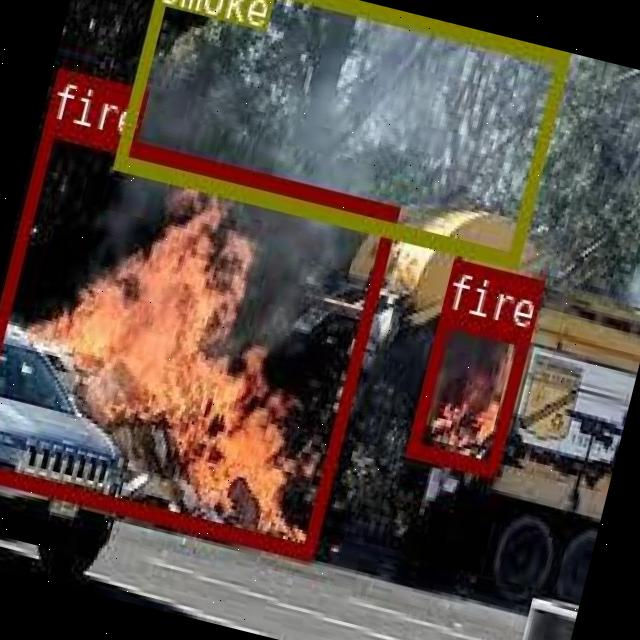fire: (0, 116, 398, 557), (404, 308, 528, 474)
smoke: (113, 0, 568, 263)
